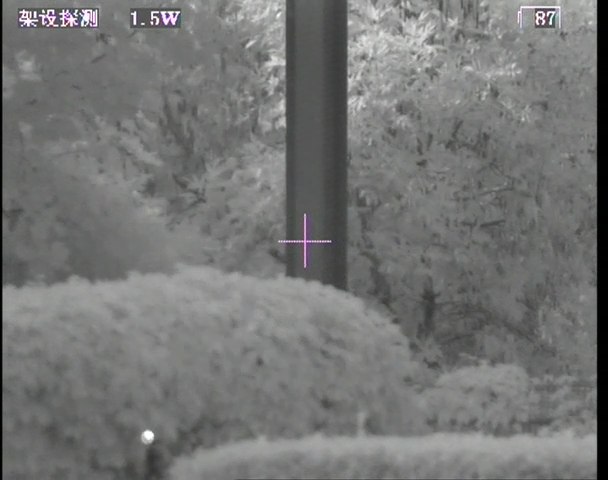my: (139, 428, 157, 444)
